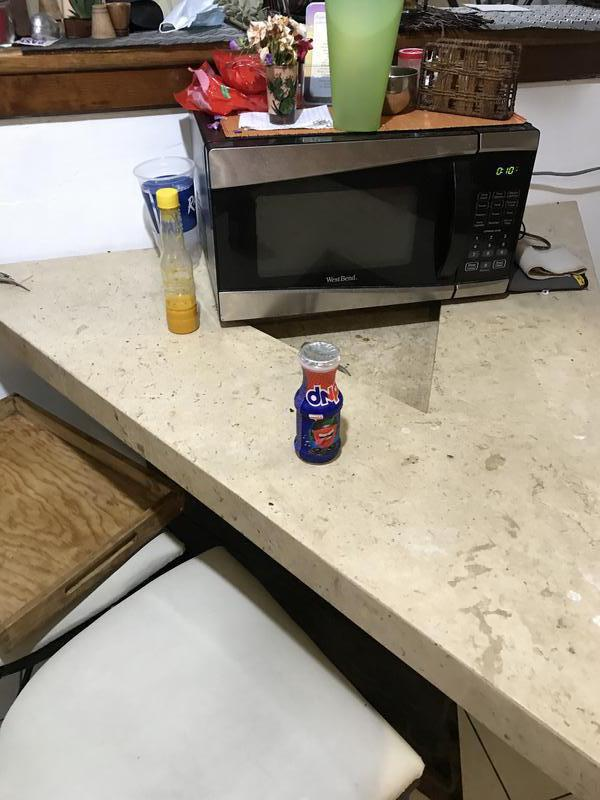danup: (294, 344, 342, 463)
